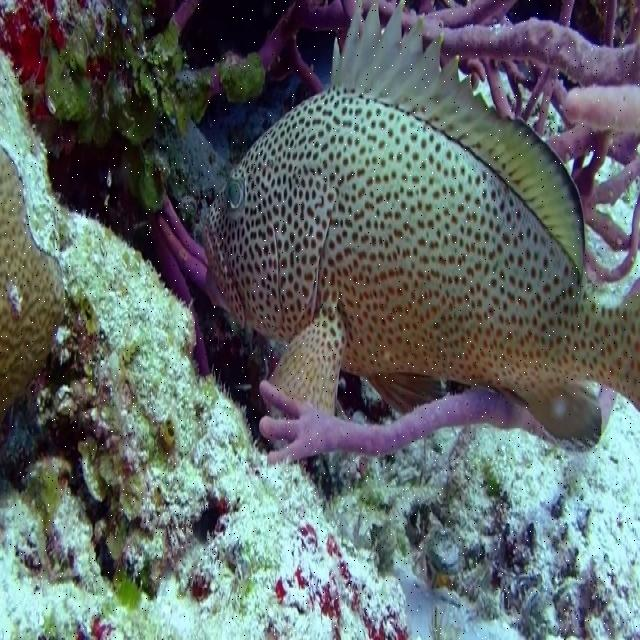fish: (198, 0, 639, 450), (0, 145, 64, 411)
reefs: (45, 0, 401, 373), (401, 0, 639, 285), (259, 379, 552, 465)
sea-floor: (0, 44, 411, 639)
